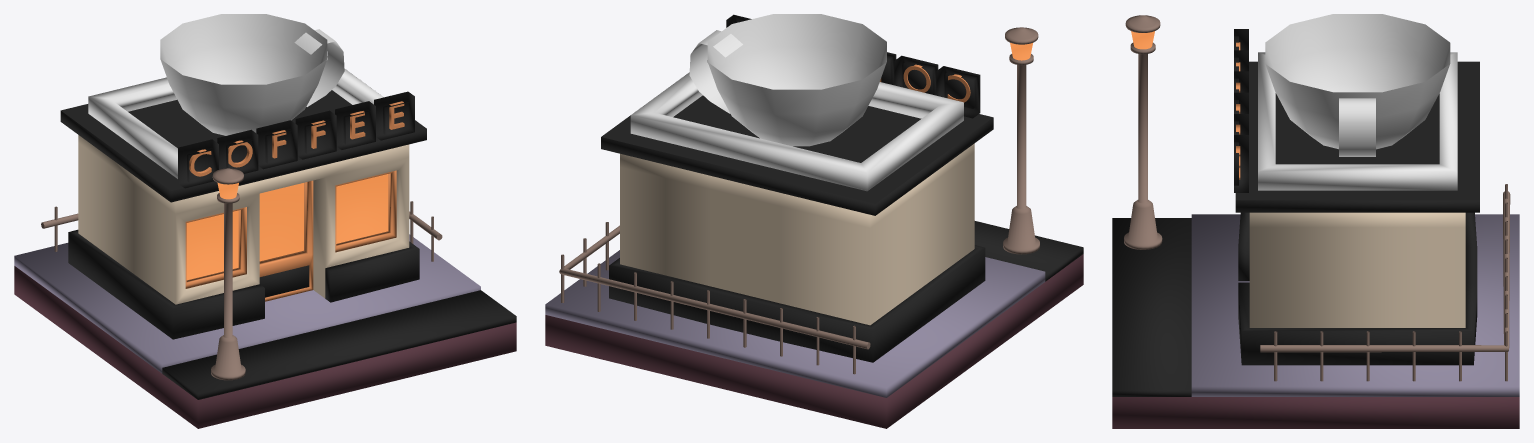
Rendered from coffee.glb.
3 views of the same model, side by side, from view 1: azimuth 30°, elevation 25°; view 2: azimuth 150°, elevation 25°; view 3: azimuth 270°, elevation 25° (orthographic). The views are drawn at different scales.
Visible parts, largest first — view 1: Plane.004, Circle, Plane.002, Plane, Plane.001, Plane.017, Plane.005, Plane.006, Circle.002, Plane.007, Plane.008, Plane.012 (+7 smaller); view 2: Plane.004, Circle, Plane.002, Plane, Plane.005, Plane.006, Plane.017, Circle.002, Plane.009, Plane.001, Plane.010, Circle.001 (+2 smaller); view 3: Plane.004, Plane.002, Circle, Plane.005, Plane.001, Plane, Plane.017, Plane.006, Circle.002, Plane.009, Circle.001, Plane.010 (+1 smaller).
Boxes of the visible parts, <box> form: Plane.004: <box>78,135,409,304</box>; Circle: <box>160,14,327,135</box>; Plane.002: <box>14,234,480,373</box>; Plane: <box>14,266,516,428</box>; Plane.001: <box>162,290,516,399</box>; Plane.017: <box>68,229,419,339</box>; Plane.005: <box>60,90,426,202</box>; Plane.006: <box>88,56,383,178</box>; Circle.002: <box>211,168,245,380</box>; Plane.007: <box>185,170,396,288</box>; Plane.008: <box>259,180,313,301</box>; Plane.012: <box>256,120,297,169</box>; Plane.004: <box>620,143,974,325</box>; Circle: <box>707,14,886,146</box>; Plane.002: <box>545,250,1045,397</box>; Plane: <box>545,254,1083,428</box>; Plane.005: <box>601,95,993,215</box>; Plane.006: <box>630,60,963,191</box>; Plane.017: <box>609,245,985,362</box>; Circle.002: <box>1003,27,1039,254</box>; Plane.009: <box>559,225,870,349</box>; Plane.001: <box>974,221,1083,281</box>; Plane.010: <box>561,222,855,374</box>; Circle.001: <box>689,30,742,113</box>; Plane.004: <box>1249,212,1465,327</box>; Plane.002: <box>1191,214,1519,396</box>; Circle: <box>1265,14,1450,149</box>; Plane.005: <box>1235,61,1479,212</box>; Plane.001: <box>1112,218,1191,396</box>; Plane: <box>1112,397,1519,428</box>; Plane.017: <box>1238,212,1477,365</box>; Plane.006: <box>1258,52,1457,190</box>; Circle.002: <box>1124,15,1162,249</box>; Plane.009: <box>1260,191,1510,352</box>; Circle.001: <box>1339,98,1375,156</box>; Plane.010: <box>1274,184,1507,381</box>.
Size of what is drawn, in the model's own units: 8 by 6.25 by 8.
